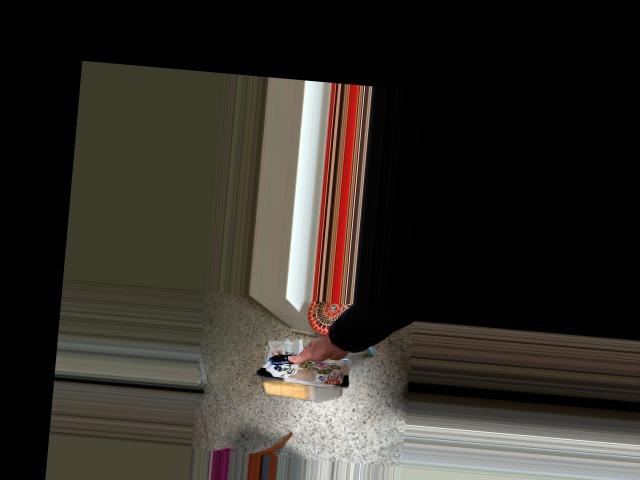cheese: (249, 328, 363, 429)
